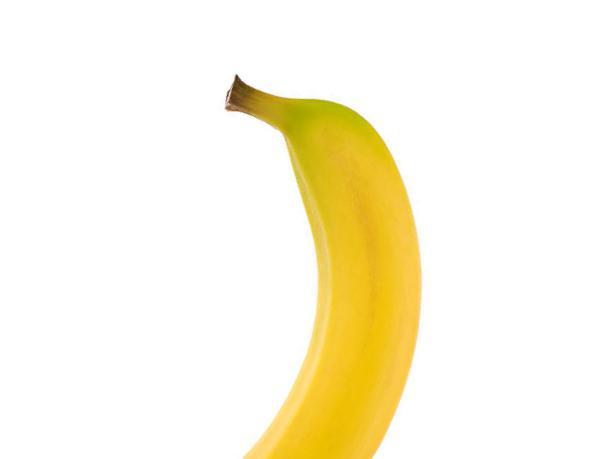banana: (222, 74, 423, 459)
